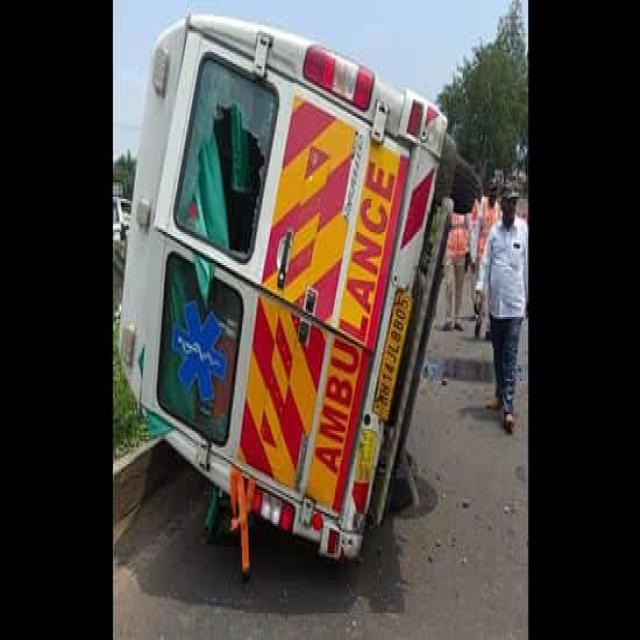accident: (120, 13, 479, 573)
